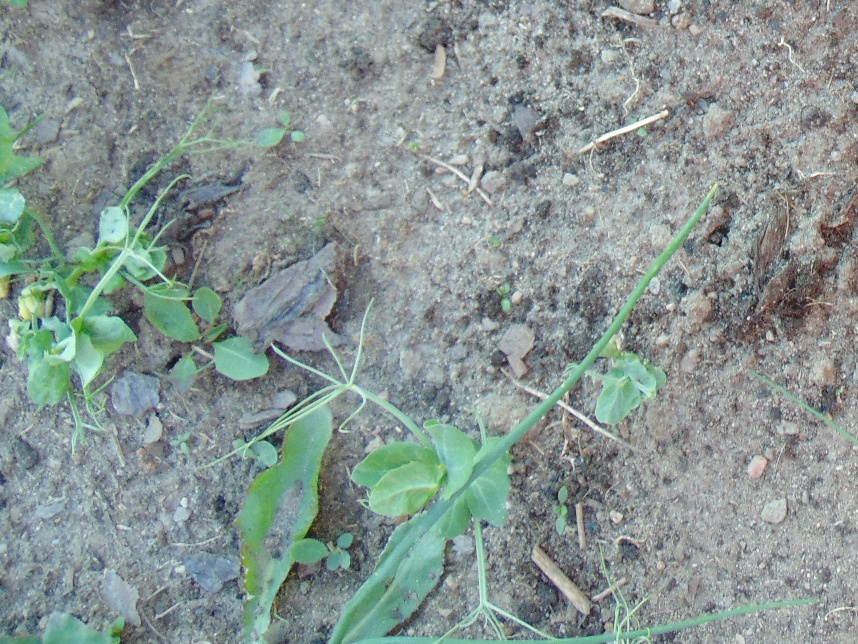crop: (1, 156, 189, 393), (315, 344, 512, 525), (424, 469, 527, 644), (1, 95, 43, 325), (566, 348, 662, 423)
weed: (226, 402, 334, 644), (330, 523, 444, 644), (614, 182, 728, 303), (146, 281, 267, 383), (8, 610, 125, 644), (509, 377, 565, 447), (254, 109, 304, 148)
